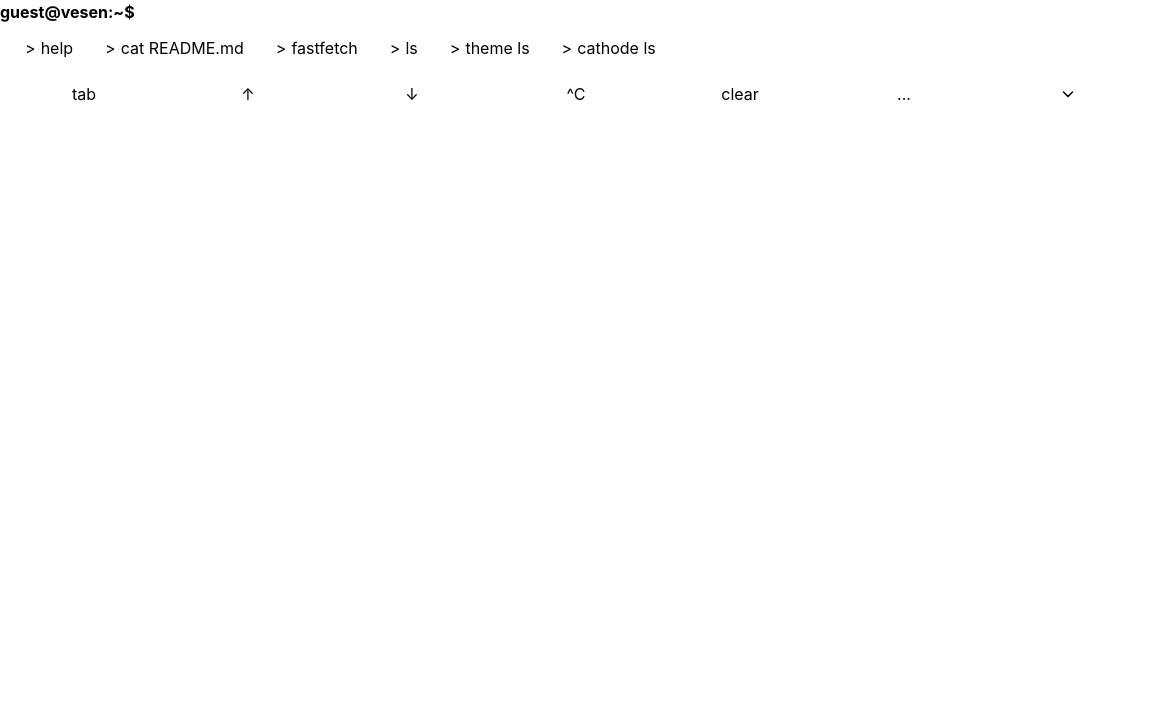
Test: Dock › opens the history sheet when ↑ is held; a tap there puts the line at the prompt
The image size is (1152, 720).
Press the mouse on the button named "Previous command (hold for history)" at {"x": 248, "y": 94}, box [168,72,328,116]
Wait 500 ms
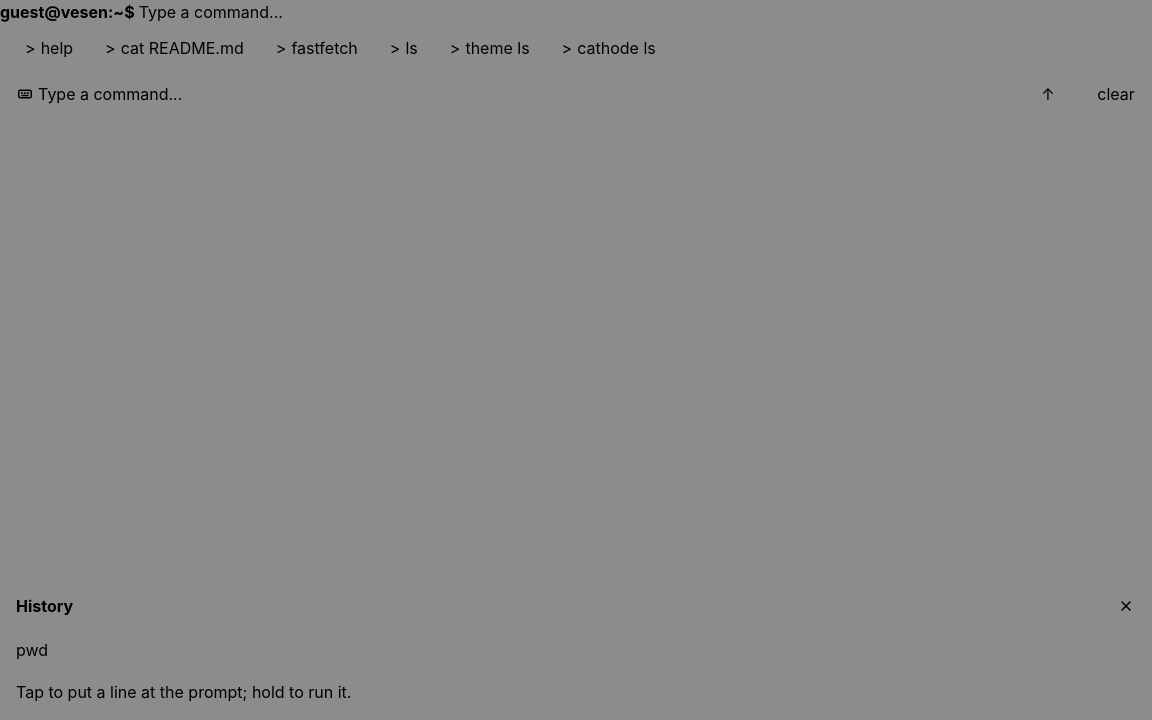
Click the button with aria-label "Insert: pwd" at {"x": 32, "y": 650}, box [0,628,1151,672]
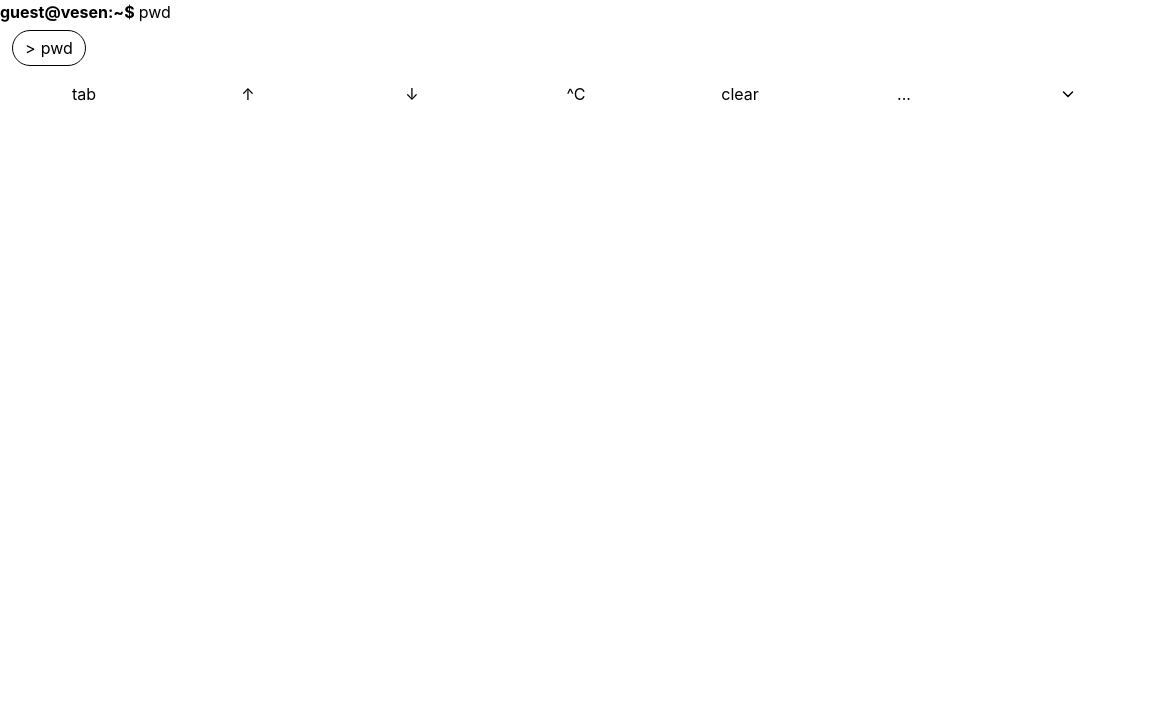
expect the dialog is gone: met
expect the dropdown with class "command-input" holds "pwd": met, box [139,0,1151,24]
